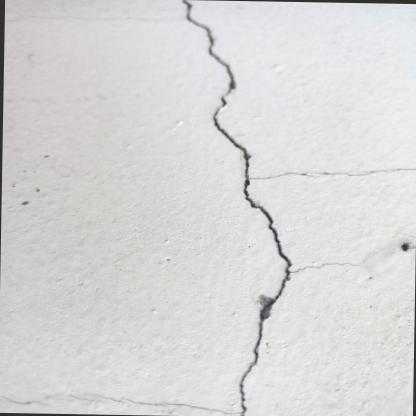crack: (182, 0, 291, 415)
